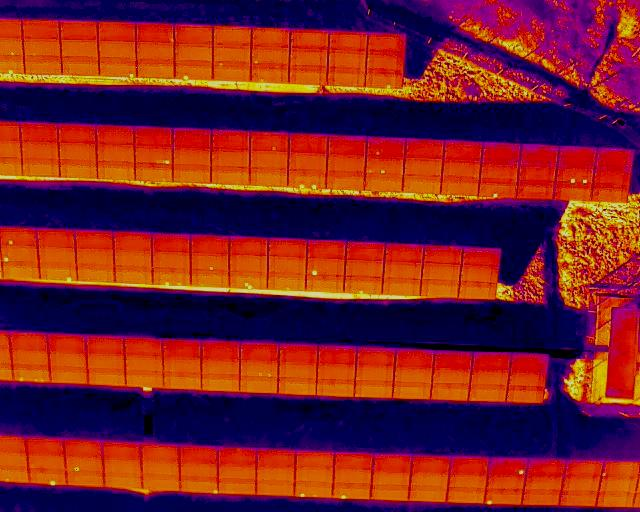Cell: (250, 131, 289, 150), (251, 64, 289, 83), (367, 138, 405, 157), (134, 146, 173, 164), (191, 253, 229, 271), (99, 60, 138, 77), (252, 47, 290, 64), (213, 63, 251, 80), (489, 458, 526, 475), (307, 258, 344, 275), (0, 246, 39, 262), (268, 274, 306, 290), (344, 277, 382, 293), (28, 470, 65, 486), (0, 229, 37, 245), (366, 72, 403, 88), (175, 64, 213, 79), (332, 484, 370, 499), (180, 478, 218, 493), (65, 457, 102, 472), (40, 264, 77, 279), (486, 489, 522, 504), (479, 183, 517, 196)
Cell-Multi: (365, 158, 404, 177), (241, 359, 278, 377), (556, 168, 595, 185), (12, 365, 50, 382), (294, 482, 332, 498), (287, 171, 325, 187), (230, 273, 268, 289), (153, 270, 191, 285)
No-Anomaly: (558, 148, 599, 168), (481, 143, 521, 163), (517, 166, 557, 186), (98, 39, 136, 60), (191, 234, 230, 254), (327, 154, 366, 174), (406, 141, 445, 161), (441, 161, 480, 181), (327, 51, 367, 70), (98, 22, 136, 42), (289, 152, 327, 172), (291, 29, 329, 49), (480, 163, 519, 182), (592, 168, 631, 187), (424, 244, 463, 263), (329, 31, 368, 50), (367, 52, 404, 72), (346, 242, 384, 261), (136, 42, 174, 61), (520, 146, 558, 165), (97, 144, 135, 163), (423, 262, 461, 281), (175, 26, 213, 45), (22, 20, 60, 39), (36, 229, 76, 247), (253, 28, 290, 47), (367, 33, 404, 52), (249, 151, 288, 169), (443, 142, 482, 160), (75, 230, 114, 248), (229, 237, 268, 255), (162, 339, 201, 357), (385, 244, 424, 262), (345, 259, 384, 277), (213, 45, 251, 63), (308, 240, 346, 258), (173, 147, 211, 165), (152, 233, 190, 251), (268, 239, 306, 257), (511, 353, 547, 372), (357, 347, 395, 365), (114, 249, 152, 267), (463, 246, 499, 265), (60, 21, 98, 39), (396, 348, 434, 366), (213, 27, 251, 45), (355, 381, 393, 399), (431, 383, 469, 401), (24, 56, 61, 74), (290, 50, 327, 68), (58, 125, 95, 143), (59, 143, 96, 161), (317, 380, 354, 398), (279, 378, 316, 396), (596, 150, 633, 168), (136, 23, 171, 42), (136, 61, 175, 78), (61, 40, 100, 57), (334, 453, 373, 470), (211, 131, 250, 148), (96, 126, 135, 143), (404, 160, 443, 177), (113, 232, 152, 249), (289, 65, 328, 82), (268, 257, 307, 274), (382, 278, 421, 295), (124, 337, 163, 354), (22, 141, 58, 159), (461, 264, 497, 282), (175, 45, 213, 62), (328, 137, 366, 154), (135, 129, 173, 146), (211, 149, 249, 166), (434, 351, 472, 368), (421, 280, 459, 297), (153, 252, 191, 269), (230, 255, 268, 272), (280, 345, 318, 362), (77, 248, 115, 265), (241, 343, 279, 360), (385, 262, 423, 279), (473, 352, 511, 369), (50, 366, 88, 383), (394, 366, 432, 383), (471, 369, 509, 386), (218, 448, 256, 465), (25, 437, 65, 453), (566, 460, 603, 477), (24, 40, 61, 57), (413, 456, 450, 473), (211, 166, 248, 183), (290, 135, 327, 152), (60, 161, 97, 178), (393, 383, 430, 400), (181, 446, 218, 463), (374, 454, 413, 470), (249, 169, 288, 185), (141, 444, 180, 460), (201, 342, 240, 358), (317, 363, 356, 379), (468, 386, 507, 402), (527, 459, 566, 475), (21, 124, 57, 141), (450, 457, 488, 473), (295, 451, 333, 467), (600, 477, 638, 493), (62, 58, 100, 74), (173, 165, 211, 181), (134, 164, 172, 180), (39, 248, 77, 264), (318, 346, 356, 362), (257, 449, 295, 465), (447, 488, 484, 504), (103, 442, 140, 458), (49, 335, 86, 351), (87, 338, 124, 354), (66, 440, 103, 456), (125, 355, 162, 371), (240, 377, 277, 393), (88, 369, 125, 385), (163, 373, 200, 389), (141, 461, 180, 476), (448, 474, 487, 489), (369, 486, 408, 501), (402, 177, 441, 192), (295, 467, 334, 482), (516, 185, 555, 200), (77, 266, 116, 281), (191, 271, 230, 286), (202, 359, 241, 374), (604, 461, 640, 477), (459, 282, 495, 298), (257, 481, 295, 496), (218, 480, 256, 495), (562, 476, 600, 491), (522, 489, 560, 504), (257, 465, 295, 480), (371, 471, 409, 486), (333, 469, 371, 484), (180, 463, 218, 478), (218, 464, 256, 479), (327, 71, 365, 86), (279, 362, 317, 377), (356, 365, 394, 380), (1, 263, 39, 278), (11, 349, 49, 364), (163, 357, 201, 372), (97, 163, 134, 178), (525, 474, 562, 489), (598, 492, 635, 507), (173, 131, 210, 146), (433, 368, 470, 383), (50, 351, 87, 366), (125, 371, 162, 386), (66, 472, 105, 486), (553, 186, 592, 200), (201, 375, 240, 389), (23, 160, 59, 175), (507, 388, 543, 403), (509, 372, 545, 387), (560, 491, 598, 505), (410, 473, 448, 487), (409, 488, 447, 502), (364, 177, 402, 191), (27, 454, 65, 468), (115, 268, 153, 282), (104, 459, 141, 473), (104, 473, 141, 487), (307, 276, 344, 290), (11, 334, 48, 348), (87, 354, 124, 368), (488, 474, 524, 488), (591, 187, 629, 200), (141, 476, 179, 488), (326, 176, 364, 188), (440, 182, 478, 194)
